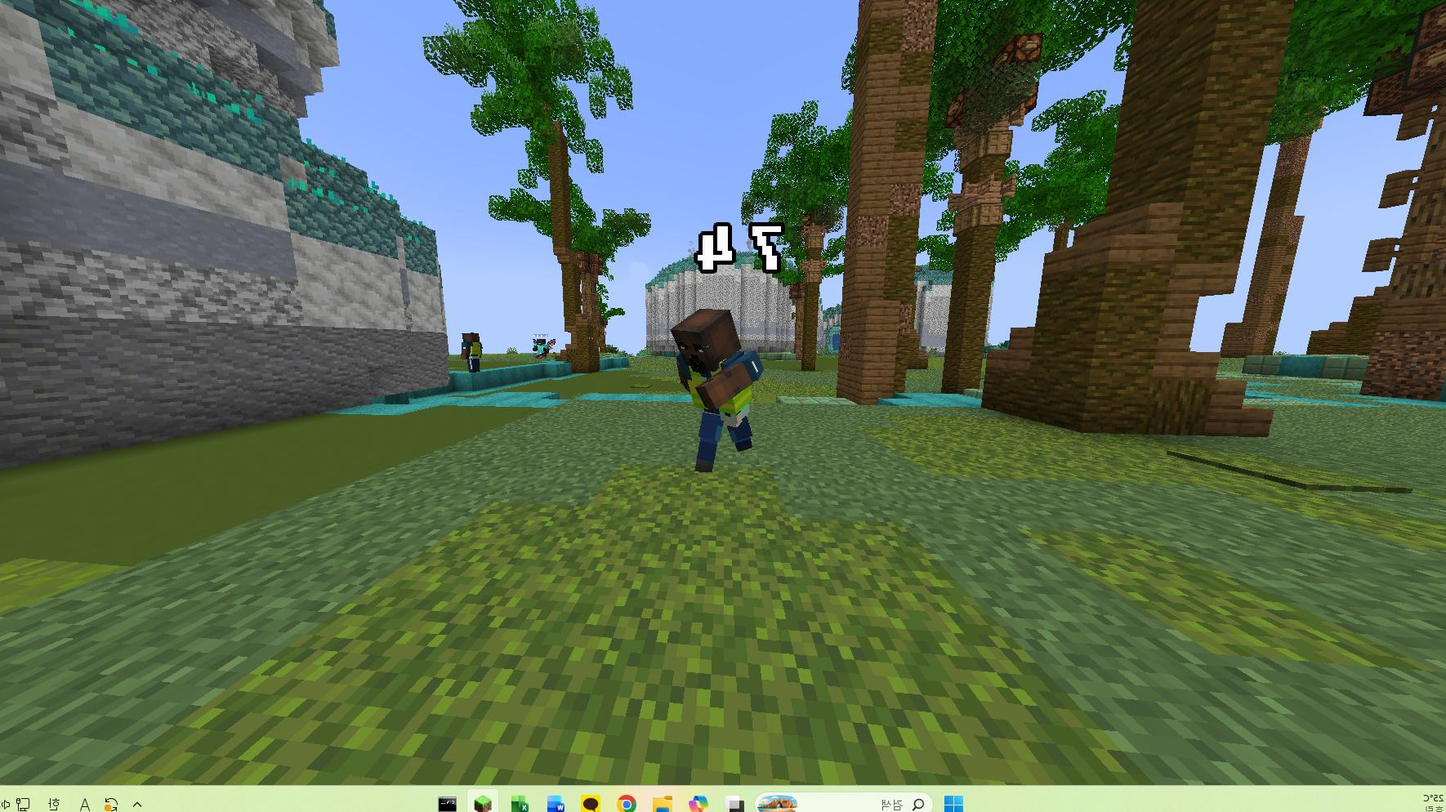Guardian: (672, 310, 762, 471), (462, 332, 482, 373)
